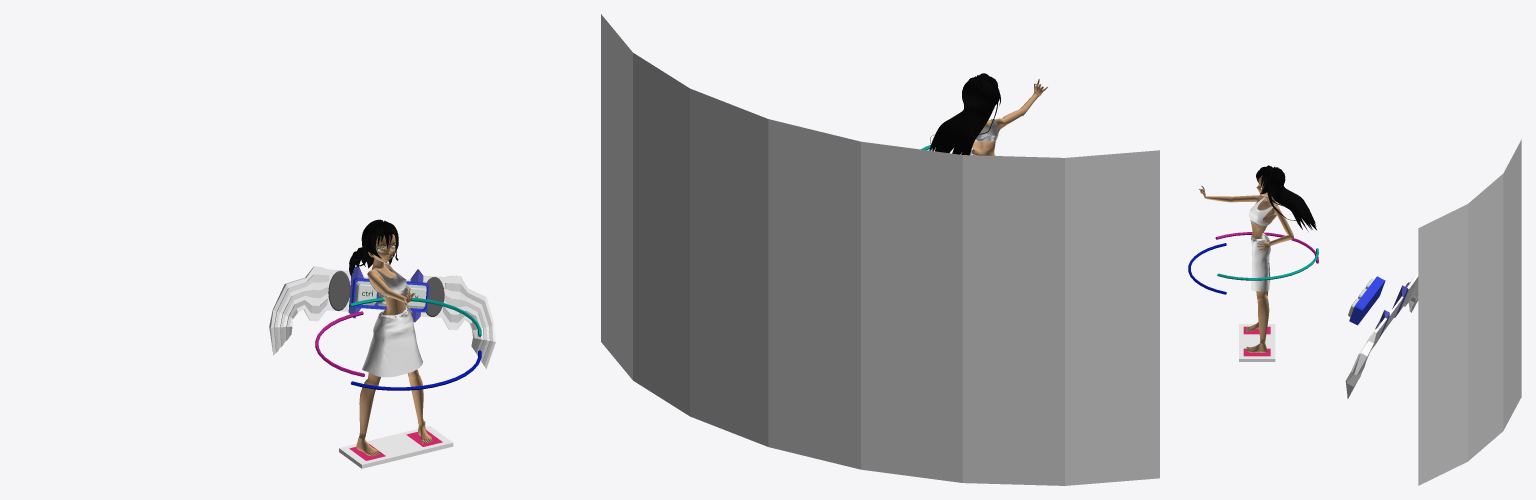
Rendered from Umi.glb.
3 renders of one model, left to right at view 1: azimuth 30°, elevation 25°; view 2: azimuth 150°, elevation 25°; view 3: azimuth 270°, elevation 25°, orthographic. The views are drawn at different scales.
Parts seen in each view (by area): view 1: Piano, Cloth, Umi, Ground, Hair, VNotes, CNotes, CtrlNotes, CBrick; view 2: Background, Hair, Umi; view 3: Background, Umi, Hair, Piano, Cloth, Ground, CtrlButtons, VBrick.
Boxes of the visible parts, x1=… form: Piano: x1=269, y1=266, x2=495, y2=369; Cloth: x1=362, y1=263, x2=422, y2=377; Umi: x1=356, y1=234, x2=432, y2=456; Ground: x1=339, y1=426, x2=453, y2=468; Hair: x1=349, y1=219, x2=398, y2=276; VNotes: x1=274, y1=274, x2=493, y2=365; CNotes: x1=280, y1=287, x2=487, y2=355; CtrlNotes: x1=286, y1=299, x2=481, y2=352; CBrick: x1=351, y1=350, x2=481, y2=390; Background: x1=601, y1=14, x2=1159, y2=485; Hair: x1=929, y1=73, x2=1000, y2=155; Umi: x1=971, y1=78, x2=1047, y2=155; Background: x1=1418, y1=139, x2=1521, y2=485; Umi: x1=1199, y1=175, x2=1293, y2=352; Hair: x1=1256, y1=165, x2=1316, y2=231; Piano: x1=1346, y1=272, x2=1418, y2=399; Cloth: x1=1249, y1=196, x2=1279, y2=291; Ground: x1=1239, y1=324, x2=1275, y2=361; CtrlButtons: x1=1349, y1=276, x2=1385, y2=325; VBrick: x1=1217, y1=248, x2=1318, y2=280.
Bounding box in the file's own units: 41.43 × 23.24 × 27.27.
